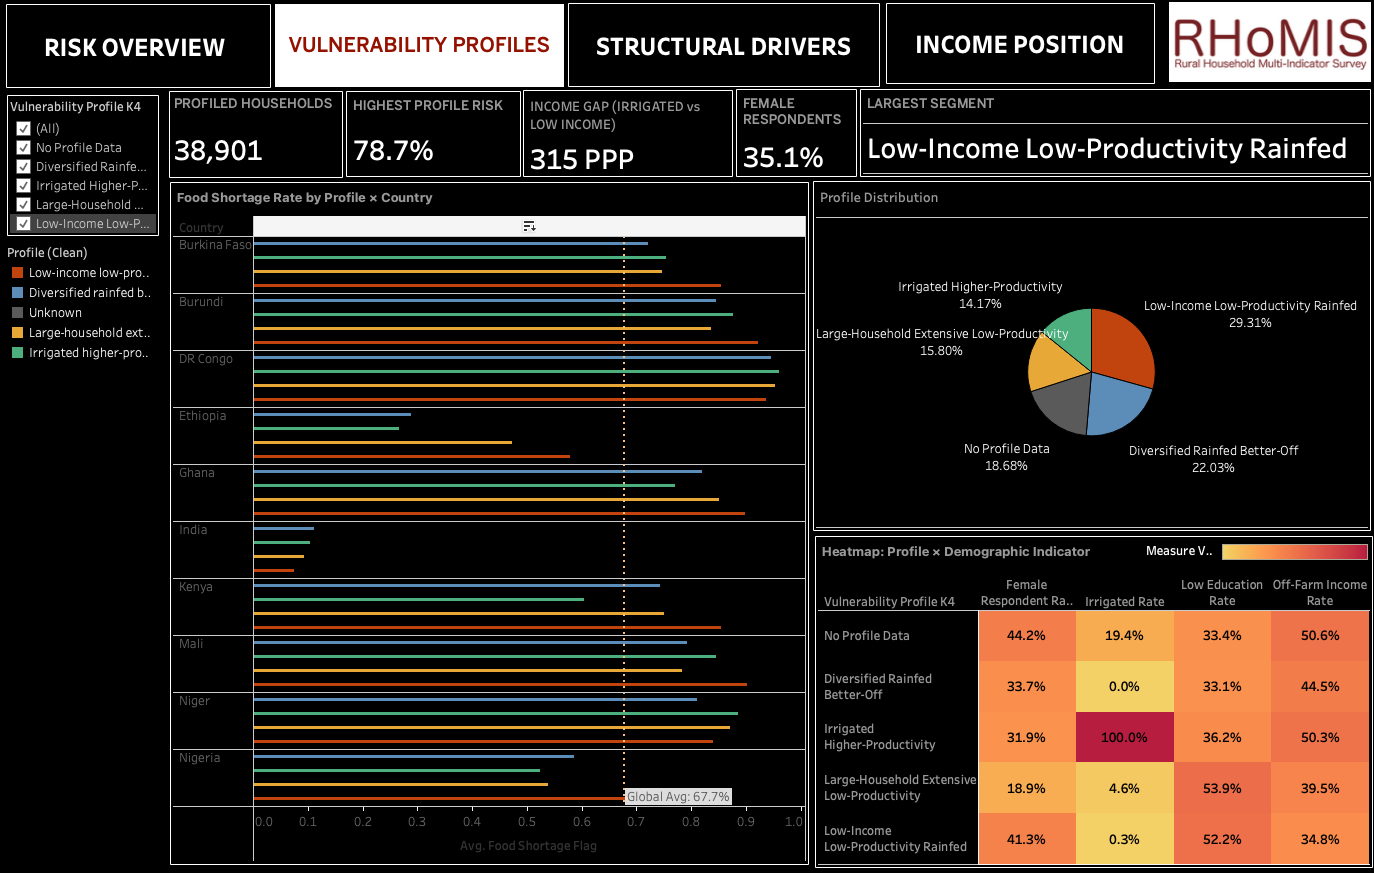

The page's visual inventory and layout, read from the dashboard file:
{"tool":"tableau","page":{"name":"VULNERABILITY PROFILES","canvas":[1400,900],"ordinal":3},"visuals":[{"type":"blank","box":[8,8,1384,884]},{"type":"dashboard-object","box":[581,16,312,84]},{"type":"dashboard-object","box":[899,16,264,82]},{"type":"image","param":"Image/rhomis-logo.png","box":[1173,16,209,85]},{"type":"dashboard-object","box":[19,17,265,84]},{"type":"text","box":[288,17,289,83]},{"type":"worksheet","title":"KPI2 - FEMALE RESPONDENTS","mark":"Automatic","box":[749,102,121,88]},{"type":"worksheet","title":"KPI2 - LARGEST SEGMENT","mark":"Text","rows":["vulnerability_profile_k4"],"box":[873,102,511,88]},{"type":"worksheet","title":"KPI2 - INCOME GAP","mark":"Automatic","box":[536,103,210,87]},{"type":"filter","title":"KPI2 - Profiled HH","param":"[federated.18g2uha1kfgs62108f3sf1ksln33].[none:vulnerability_profile_k4:nk]","box":[16,104,160,157]},{"type":"worksheet","title":"KPI2 - Profiled HH","mark":"Text","box":[182,104,174,87]},{"type":"worksheet","title":"KPI2 - Highest Risk","mark":"Automatic","box":[359,104,175,86]},{"type":"worksheet","title":"Profile Distribution","mark":"Pie","box":[826,194,558,350]},{"type":"worksheet","title":"Food Shortage Rate by Profile × Country","mark":"Bar","rows":["country","Calculation_3682809731792904"],"cols":["food_shortage_flag"],"box":[183,195,639,683]},{"type":"legend","title":"Profile Distribution","param":"[federated.18g2uha1kfgs62108f3sf1ksln33].[none:Calculation_3682809731792904:nk]","box":[16,261,160,126]},{"type":"worksheet","title":"Heatmap","mark":"Square","rows":["vulnerability_profile_k4"],"box":[828,549,558,332]},{"type":"legend","title":"Heatmap","param":"[federated.18g2uha1kfgs62108f3sf1ksln33].[Multiple Values]","box":[1159,553,226,37]}]}

Visuals, with their boxes in screenshot pixels (x1, y1, x2, y2), scaled from the page's 1400x900 canvas onto the 1374x873 screenshot:
blank: <box>8,8,1366,865</box>
dashboard-object: <box>570,16,876,97</box>
dashboard-object: <box>882,16,1141,95</box>
image: <box>1151,16,1356,98</box>
dashboard-object: <box>19,16,279,98</box>
text: <box>283,16,566,97</box>
"KPI2 - FEMALE RESPONDENTS" worksheet: <box>735,99,854,184</box>
"KPI2 - LARGEST SEGMENT" worksheet (Text marks): <box>857,99,1358,184</box>
"KPI2 - INCOME GAP" worksheet: <box>526,100,732,184</box>
"KPI2 - Profiled HH" filter: <box>16,101,173,253</box>
"KPI2 - Profiled HH" worksheet (Text marks): <box>179,101,349,185</box>
"KPI2 - Highest Risk" worksheet: <box>352,101,524,184</box>
"Profile Distribution" worksheet (Pie marks): <box>811,188,1358,528</box>
"Food Shortage Rate by Profile × Country" worksheet (Bar marks): <box>180,189,807,852</box>
"Profile Distribution" legend: <box>16,253,173,375</box>
"Heatmap" worksheet (Square marks): <box>813,533,1360,855</box>
"Heatmap" legend: <box>1137,536,1359,572</box>
